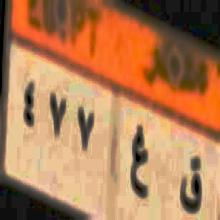4: (21, 73, 37, 136)
7: (48, 87, 67, 150), (78, 98, 95, 162)
ghayn: (130, 126, 150, 208)
qaaf: (179, 147, 202, 220)
